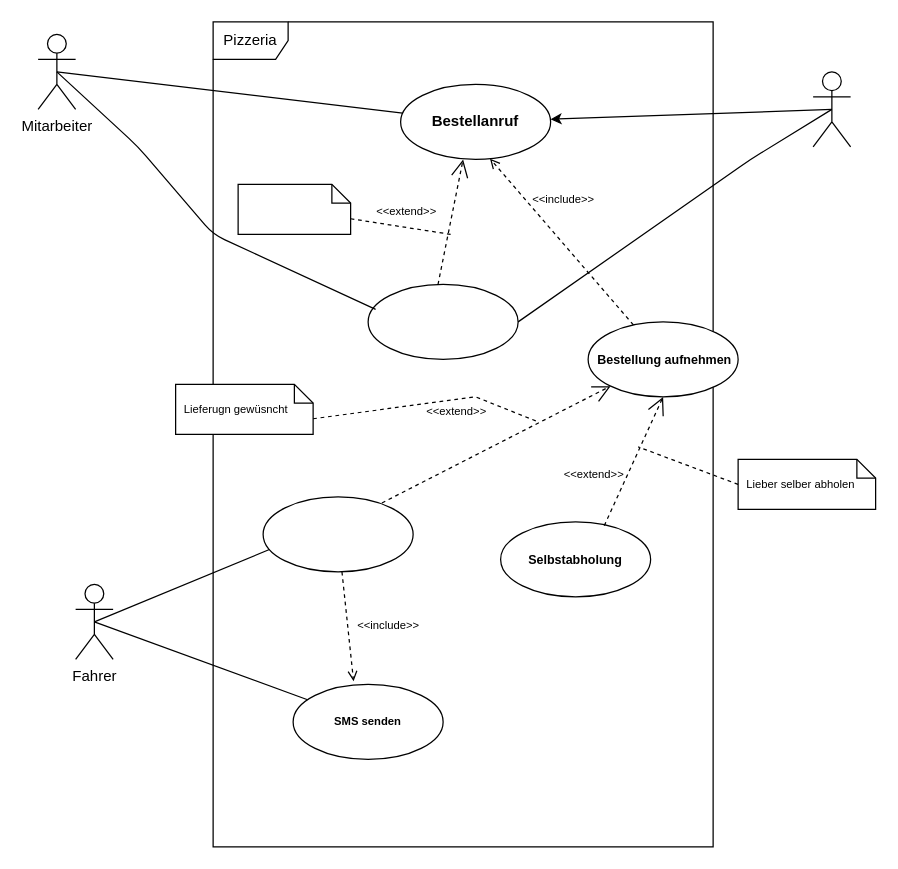
Image size: 898x869. Some labels were removed from this diagram. The shapes that lost their labels are listed below. From the top down, each one's box as (x1, y1, x2, y2) in pixels, then its label:
(812, 71, 851, 147): Kunde
(237, 183, 351, 234): Falls Kunde neu
(367, 283, 518, 359): Kundendaten erfassen
(262, 496, 413, 572): Auslieferung
